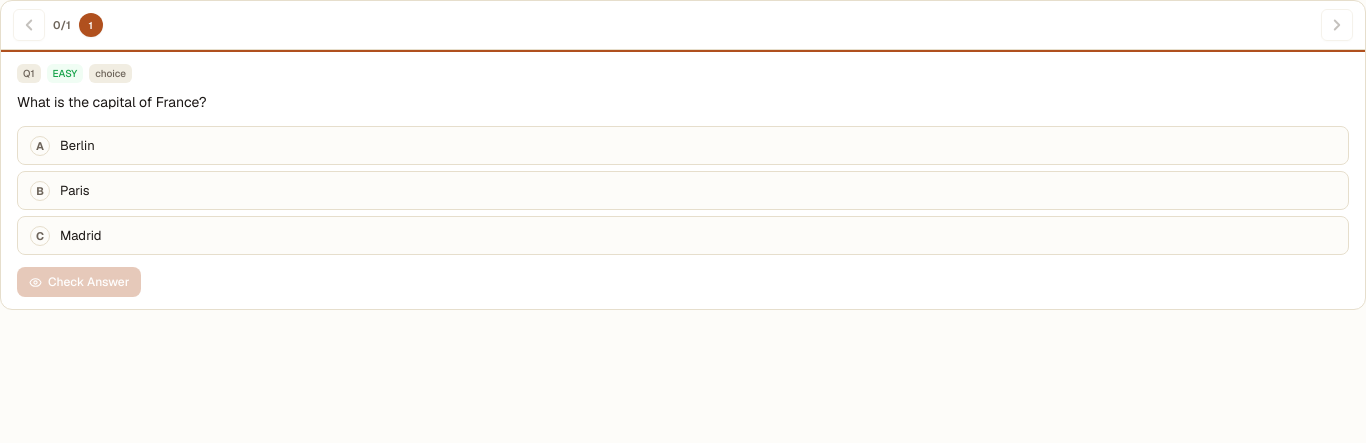
Test: QuizViewer smoke › grades a correct choice answer and shows the explanation (answer → submit → feedback)
The width and height of the screenshot is (1366, 443).
What coordinates should you click on to do the following:
click the button "B Paris"
I would click on:
 (40, 191)
Its box is [17,171,1349,210].
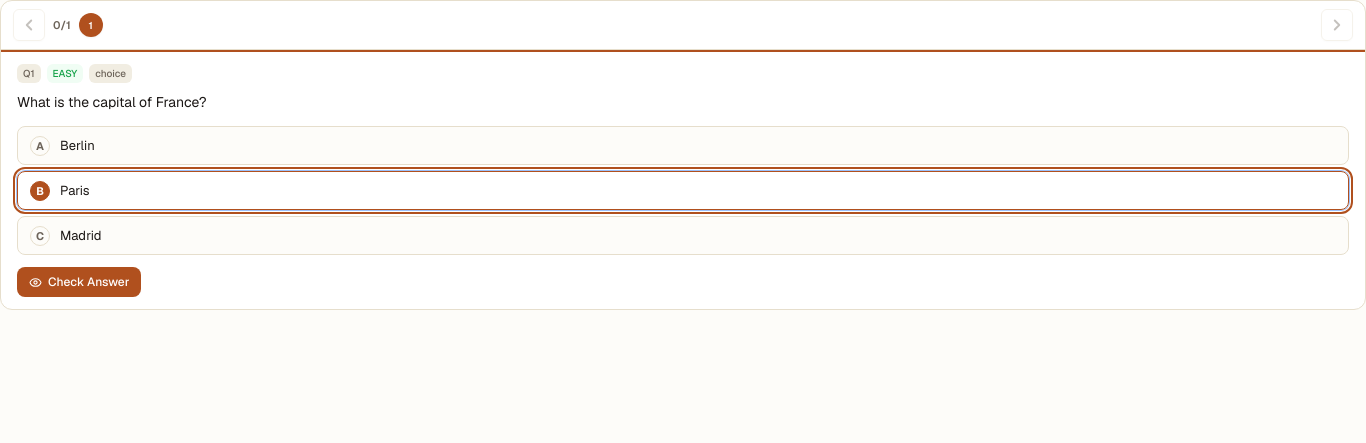
expect the button "Check Answer" is enabled: met
What coordinates should you click on to do the following:
click the button "Check Answer"
I would click on:
 (79, 282)
Its box is [17,267,141,297].
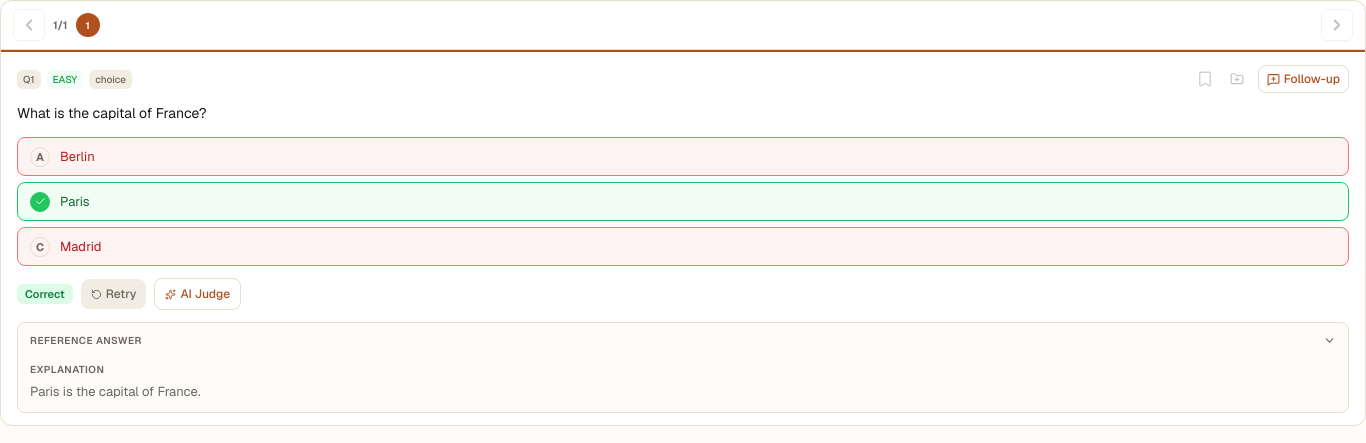
expect the text "Correct" is shown: met, box [17,284,73,304]
expect the text "Explanation" is shown: met, box [30,363,104,376]
expect the text "Paris is the capital of France." is shown: met, box [30,383,200,400]
